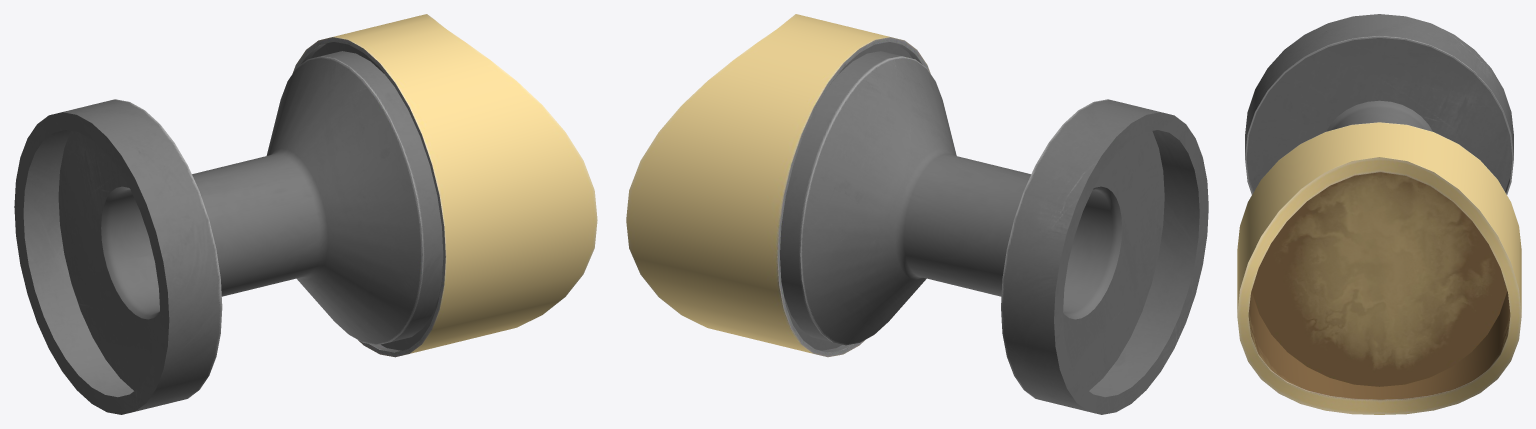
Rendered from guard_13_c_b.glb.
The picture shows the model from 3 angles, left to right: view 1: azimuth 30°, elevation 25°; view 2: azimuth 150°, elevation 25°; view 3: azimuth 270°, elevation 25°; orthographic projection. The views are drawn at different scales.
Visible parts, largest first — view 1: guard_13_c_b_lod0; view 2: guard_13_c_b_lod0; view 3: guard_13_c_b_lod0.
Part boxes in pixels (<box>): guard_13_c_b_lod0: <box>14,14,597,414</box>; guard_13_c_b_lod0: <box>626,14,1208,414</box>; guard_13_c_b_lod0: <box>1237,14,1521,414</box>.
Size of what is drawn, in the model's own units: 0.0454 by 0.0304 by 0.0304.
Materials: 1 (1 with a texture image).
